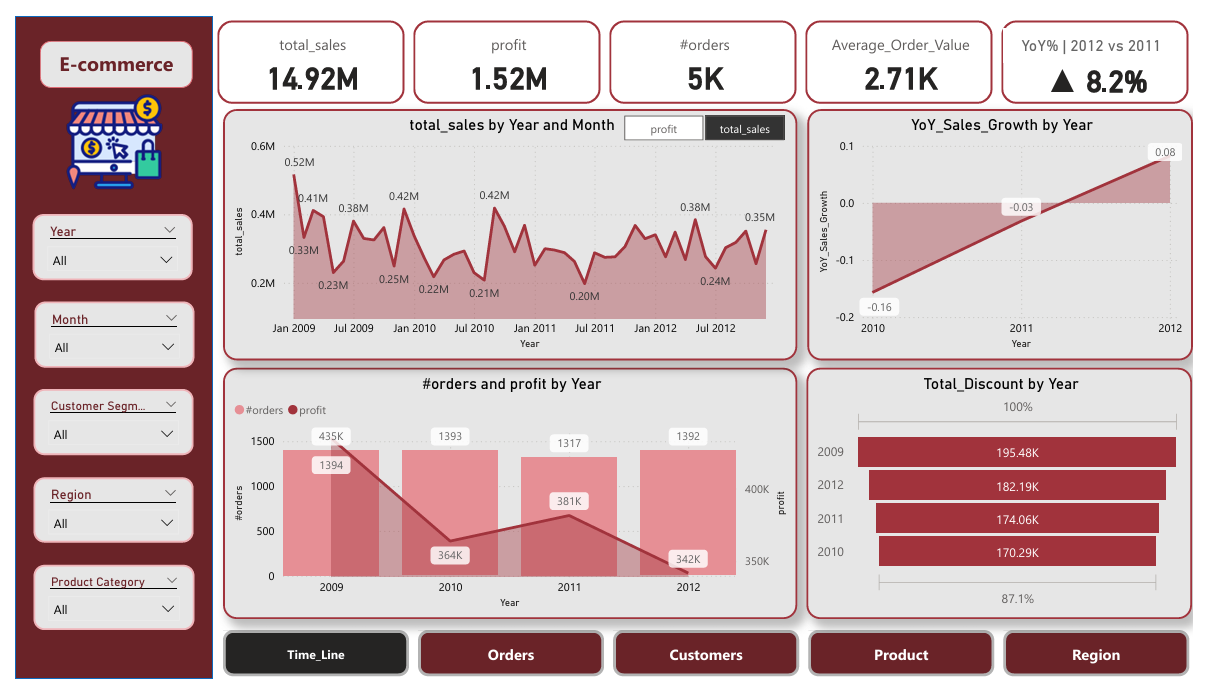

Layout of this report page (visuals, bound fields, positions):
{"tool":"powerbi","page":{"name":"Time_Line","canvas":[1280,720],"ordinal":0},"visuals":[{"type":"cardVisual","fields":{"Data":["Dax.total_sales","Dax.profit","Dax.#orders","Dax.Average_Order_Value","Dax.YoY_Sales_Growth_Text"]},"box":[215.4,0,1064.8,100.2],"z":0},{"type":"card","fields":{"Values":["Dax.Variance_Period_YoY"]},"box":[1074.4,13.7,190.7,37],"z":1000},{"type":"shape","box":[0,0,215.4,720.4],"z":2000},{"type":"textbox","box":[27.4,27.4,166,50.8],"z":3000},{"type":"slicer","fields":{"Values":["New folder.Year"]},"box":[19.2,215.4,174.3,71.4],"z":4000},{"type":"slicer","fields":{"Values":["New folder.Order Date.Variation.Date Hierarchy.Month"]},"box":[20.6,310.5,174.3,71.4],"z":5000},{"type":"slicer","fields":{"Values":["New folder.Customer Segment"]},"box":[19.6,405.5,174.3,71.4],"z":6000},{"type":"slicer","fields":{"Values":["New folder.Region"]},"box":[19.9,500.5,174.3,71.4],"z":7000},{"type":"slicer","fields":{"Values":["New folder.Product Category"]},"box":[20.2,595.5,174.3,71.4],"z":8000},{"type":"image","box":[0,78.2,215.4,116.6],"z":9000},{"type":"pageNavigator","box":[225.8,667.5,1052.8,49.1],"z":10000},{"type":"lineStackedColumnComboChart","fields":{"Y":["Dax.#orders"],"Category":["New folder.Order Date.Variation.Date Hierarchy.Year"],"Y2":["Dax.profit"]},"box":[225.6,381.6,624,273.3],"z":11000},{"type":"lineChart","fields":{"Y":["Dax.total_sales"],"Category":["New folder.Order Date.Variation.Date Hierarchy.Year","New folder.Order Date.Variation.Date Hierarchy.Month"]},"box":[225.6,100.6,624,273.3],"z":12000},{"type":"lineChart","fields":{"Y":["Dax.YoY_Sales_Growth"],"Category":["New folder.Year"]},"box":[861.2,100.6,419,273.3],"z":13000},{"type":"slicer","fields":{"Values":["sal & pro.sal & pro"]},"box":[635.6,100.6,224.3,41.3],"z":14000},{"type":"funnel","fields":{"Category":["New folder.Year"],"Y":["Dax.Total_Discount"]},"box":[860,381.6,419,273.3],"z":15000}]}

Visuals, with their boxes in screenshot pixels (x1, y1, x2, y2), scaled from the page's 1280x720 canvas onto the 1210x687 screenshot:
cardVisual - Dax.total_sales x Dax.profit: <box>204,0,1209,96</box>
card - Dax.Variance_Period_YoY: <box>1016,13,1196,48</box>
shape: <box>0,0,204,686</box>
textbox: <box>26,26,183,75</box>
slicer - New folder.Year: <box>18,206,183,274</box>
slicer - New folder.Order Date.Variation.Date Hierarchy.Month: <box>19,296,184,364</box>
slicer - New folder.Customer Segment: <box>19,387,183,455</box>
slicer - New folder.Region: <box>19,478,184,546</box>
slicer - New folder.Product Category: <box>19,568,184,636</box>
image: <box>0,75,204,186</box>
pageNavigator: <box>213,637,1209,684</box>
lineStackedColumnComboChart - Dax.#orders x New folder.Order Date.Variation.Date Hierarchy.Year: <box>213,364,803,625</box>
lineChart - Dax.total_sales x New folder.Order Date.Variation.Date Hierarchy.Year: <box>213,96,803,357</box>
lineChart - Dax.YoY_Sales_Growth x New folder.Year: <box>814,96,1209,357</box>
slicer - sal & pro.sal & pro: <box>601,96,813,135</box>
funnel - New folder.Year x Dax.Total_Discount: <box>813,364,1209,625</box>
